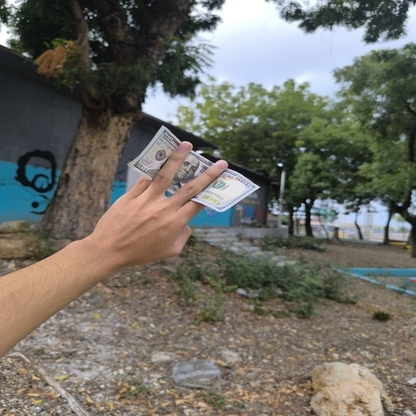one_hundred-front: (126, 118, 263, 217)
